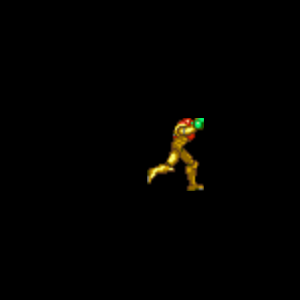Collectible: (147, 118, 204, 191)
